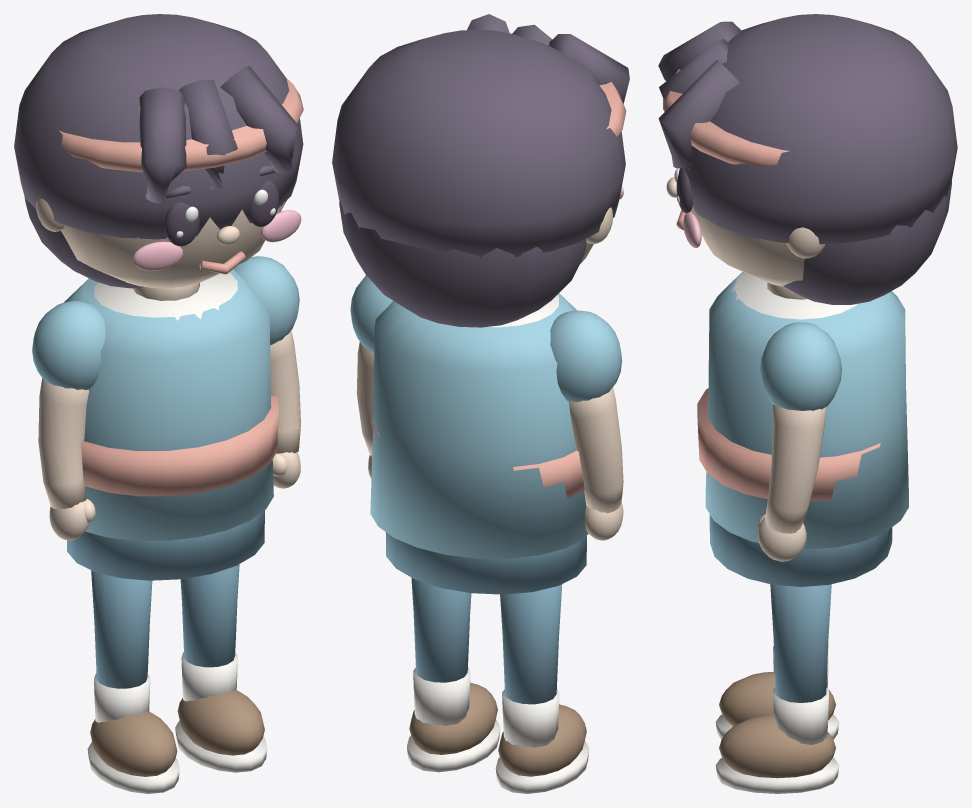
File: Char_Japones.fbx
3 views of the same model, side by side, from view 1: azimuth 30°, elevation 25°; view 2: azimuth 150°, elevation 25°; view 3: azimuth 270°, elevation 25° (orthographic).
Parts seen in each view (by area): view 1: Char_Japones; view 2: Char_Japones; view 3: Char_Japones.
Part boxes in pixels (x1=…): Char_Japones: x1=14, y1=14, x2=303, y2=793; Char_Japones: x1=332, y1=14, x2=629, y2=793; Char_Japones: x1=658, y1=14, x2=957, y2=793.
Size of the model in its own units: 0.6061 by 1.6 by 0.6026.
